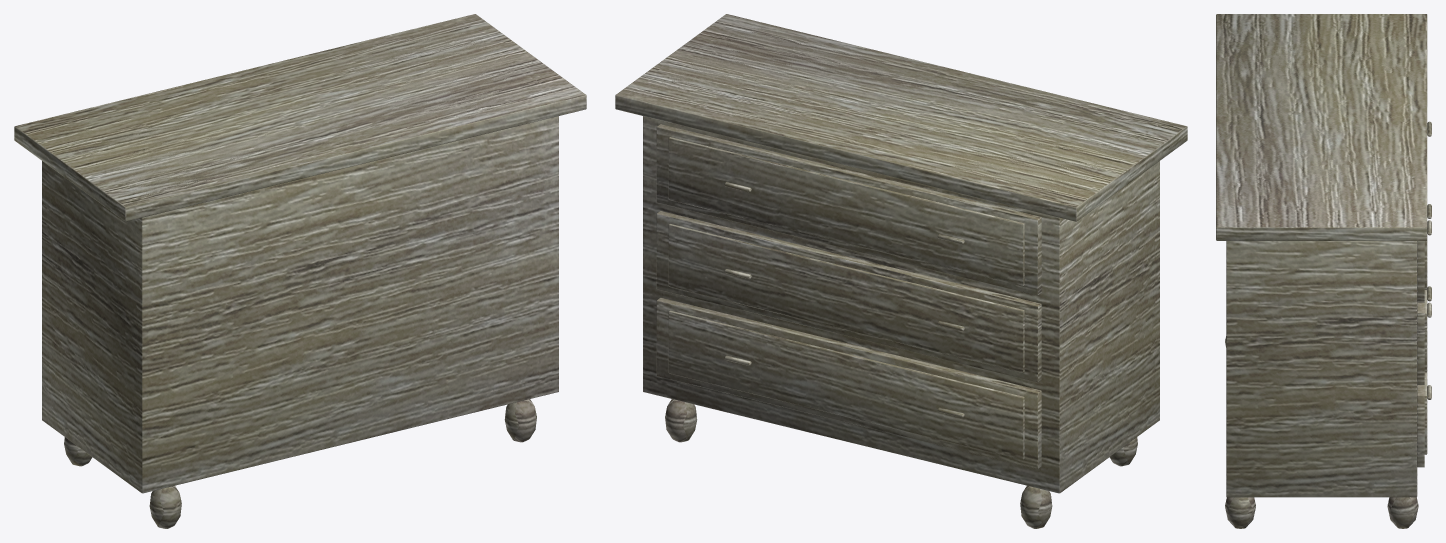
File: Antique_Chest_14.fbx
The picture shows the model from 3 angles, left to right: view 1: azimuth 30°, elevation 25°; view 2: azimuth 150°, elevation 25°; view 3: azimuth 270°, elevation 25°; orthographic projection. The views are drawn at different scales.
Visible parts, largest first — view 1: Antique_Chest; view 2: Antique_Chest; view 3: Antique_Chest.
Boxes of the visible parts, x1,y1,x2,y2 form: Antique_Chest: (14, 14, 586, 528); Antique_Chest: (615, 14, 1187, 528); Antique_Chest: (1216, 14, 1431, 528).
Bounding box in the file's own units: 1.64 × 1.17 × 0.7007.
Materials: 1 (1 with a texture image).
